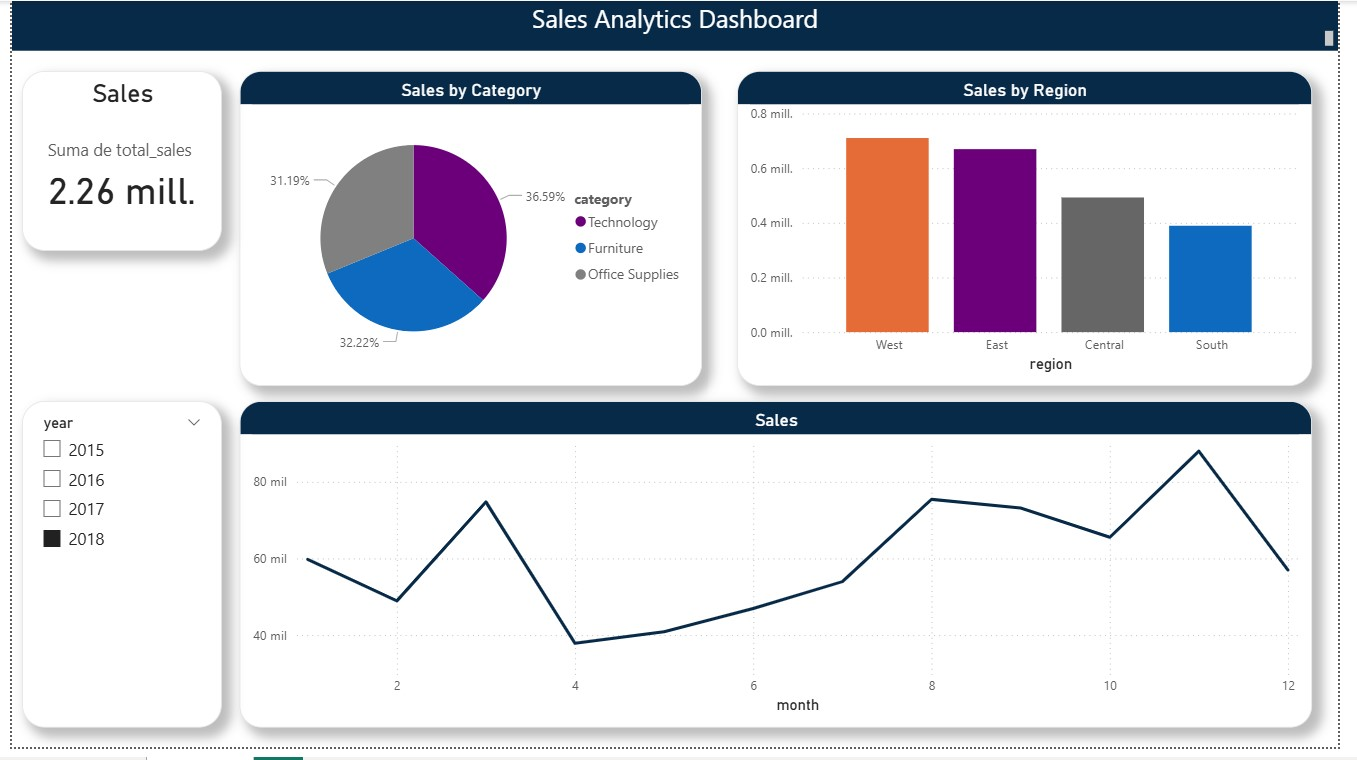

The dashboard page shown, as its layout file describes it:
{"tool":"powerbi","page":{"name":"Página 1","canvas":[1280,720],"ordinal":0},"visuals":[{"type":"clusteredColumnChart","title":"Sales by Region","fields":{"Category":["sales_by_region.region"],"Y":["Sum(sales_by_region.total_sales)"]},"box":[699.7,67.6,555,304],"z":0},{"type":"pieChart","title":"Sales by Category","fields":{"Category":["sales_by_category.category"],"Y":["Sum(sales_by_category.total_sales)"]},"box":[219.6,67.6,446.4,304],"z":1000},{"type":"lineChart","title":"Sales","fields":{"Y":["Sum(sales_by_month.total_sales)"],"Category":["sales_by_month.month"]},"box":[219.6,386.1,1035.1,314.9],"z":2000},{"type":"textbox","title":"Sales Analytics Dashboard","box":[0,0,1280,48.3],"z":3000},{"type":"cardVisual","title":"Sales","fields":{"Data":["Sum(sales_by_category.total_sales)"]},"box":[9.7,67.6,193,173.7],"z":3001},{"type":"slicer","fields":{"Values":["sales_by_month.year"]},"box":[9.7,386.1,193,314.9],"z":3002}]}

Visuals, with their boxes in screenshot pixels (x1, y1, x2, y2), scaled from the page's 1280x720 canvas onto the 1357x760 screenshot:
"Sales by Region" clusteredColumnChart: (x1=742, y1=71, x2=1330, y2=392)
"Sales by Category" pieChart: (x1=233, y1=71, x2=706, y2=392)
"Sales" lineChart: (x1=233, y1=408, x2=1330, y2=740)
"Sales Analytics Dashboard" textbox: (x1=0, y1=0, x2=1356, y2=51)
"Sales" cardVisual: (x1=10, y1=71, x2=215, y2=255)
slicer - sales_by_month.year: (x1=10, y1=408, x2=215, y2=740)
